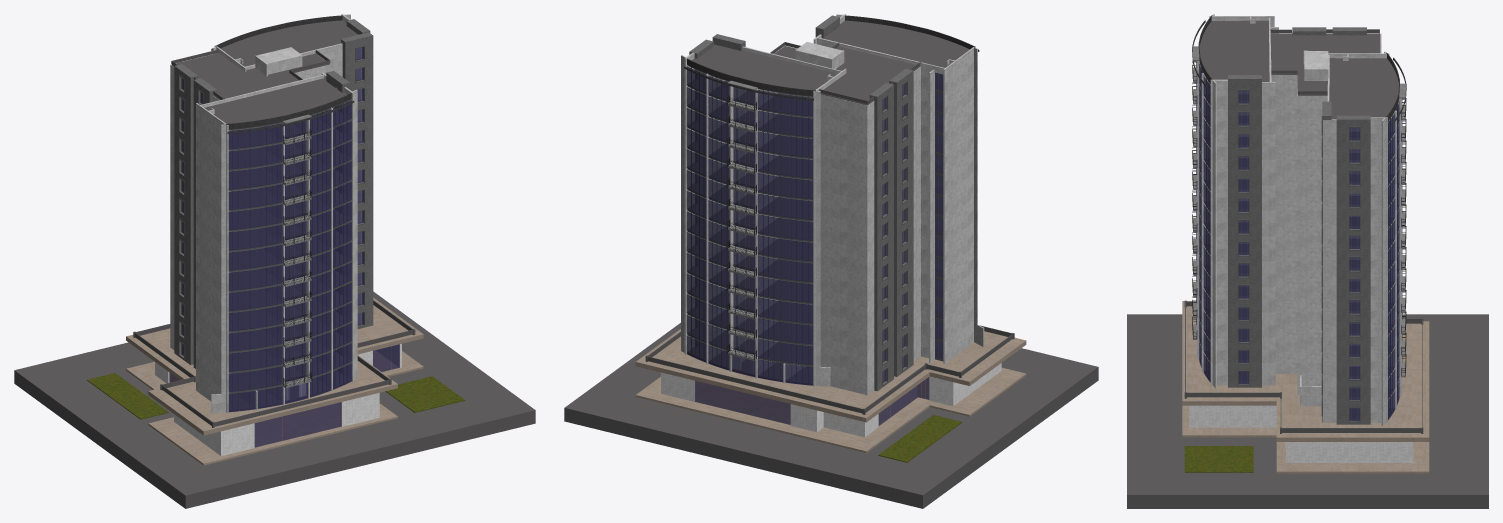
The model's file is tower_office_apartment_house_home_building.glb.
3 views of the same model, side by side, from view 1: azimuth 30°, elevation 25°; view 2: azimuth 150°, elevation 25°; view 3: azimuth 270°, elevation 25° (orthographic). The views are drawn at different scales.
Visible parts, largest first — view 1: Line3002, Box368, Line3952, Line007, Box364, Line3955, Line3969, Box370, Line3963, Line2194, Line3970, Line121 (+3 smaller); view 2: Line007, Line3002, Line3952, Box368, Box364, Line3969, Line3955, Line3963, Line2194, Line3970, Line121, Object012_Material #8_0 (+3 smaller); view 3: Line007, Box368, Box364, Line3952, Line3002, Line3955, Line3963, Line3969, Shape019, Line2194, Box370, Line121 (+4 smaller).
Boxes of the visible parts, box(x1,y1,x2,y2) form: Line3002: box(169, 47, 399, 447); Box368: box(14, 291, 535, 508); Line3952: box(171, 20, 357, 411); Line007: box(170, 14, 361, 413); Box364: box(174, 19, 373, 374); Line3955: box(126, 297, 423, 435); Line3969: box(126, 350, 423, 465); Box370: box(87, 373, 465, 419); Line3963: box(155, 343, 401, 456); Line2194: box(232, 101, 347, 404); Line3970: box(135, 300, 412, 426); Line121: box(282, 114, 311, 388); Line007: box(681, 14, 984, 395); Line3002: box(686, 66, 943, 425); Line3952: box(687, 20, 969, 384); Box368: box(564, 323, 1098, 508); Box364: box(689, 15, 913, 391); Line3969: box(635, 367, 1026, 453); Line3955: box(635, 329, 1026, 422); Line3963: box(661, 363, 1001, 437); Line2194: box(690, 67, 808, 382); Line3970: box(648, 325, 1012, 413); Line121: box(728, 80, 757, 360); Object012_Material #8_0: box(684, 15, 979, 100); Line007: box(1197, 14, 1401, 425); Box368: box(1127, 314, 1488, 508); Box364: box(1228, 27, 1370, 424); Line3952: box(1199, 20, 1398, 418); Line3002: box(1199, 63, 1399, 421); Line3955: box(1182, 301, 1429, 441); Line3963: box(1189, 405, 1413, 462); Line3969: box(1182, 405, 1429, 473); Shape019: box(1238, 89, 1360, 422); Line2194: box(1199, 64, 1398, 414); Box370: box(1184, 446, 1253, 472); Line121: box(1192, 46, 1405, 377).
Bounding box in the file's own units: 59.91 × 56.11 × 50.76.
14 materials, 7 textured.
